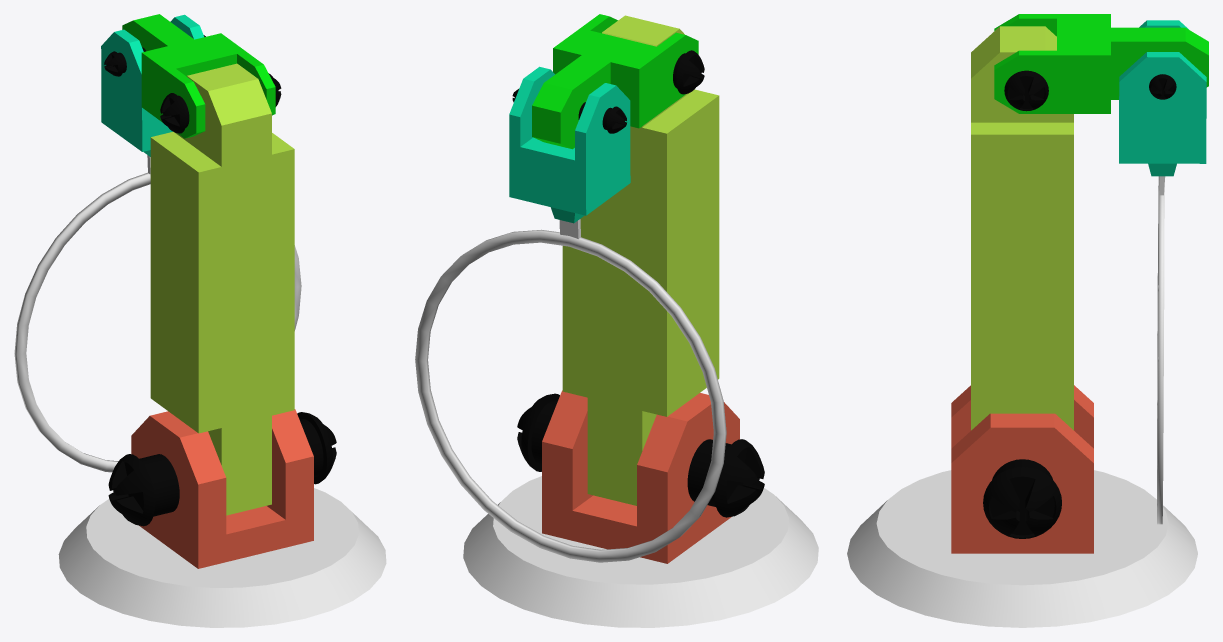
The model's file is ARMMECHBASKET2.fbx.
3 views of the same model, side by side, from view 1: azimuth 30°, elevation 25°; view 2: azimuth 150°, elevation 25°; view 3: azimuth 270°, elevation 25° (orthographic). The views are drawn at different scales.
Visible parts, largest first — view 1: Cube, SupportPanier, Plane, Plane.001, Cylinder, Cube.001, Plane.002, Cylinder.005; view 2: Cube, SupportPanier, Plane, Cube.001, Plane.002, Plane.001, Cylinder, Cylinder.005, Cylinder.006; view 3: Cube, SupportPanier, Plane, Plane.001, Plane.002, Cylinder, Cube.001, Cylinder.005, Cylinder.006.
Part boxes in pixels (<box>): Cube: <box>150,63,294,515</box>; SupportPanier: <box>58,488,386,627</box>; Plane: <box>131,409,313,568</box>; Plane.001: <box>122,14,275,138</box>; Cylinder: <box>108,412,336,526</box>; Cube.001: <box>14,155,301,472</box>; Plane.002: <box>101,14,204,156</box>; Cylinder.005: <box>160,73,281,133</box>; Cube: <box>562,15,719,505</box>; SupportPanier: <box>463,476,818,627</box>; Plane: <box>542,390,739,563</box>; Cube.001: <box>415,219,726,562</box>; Plane.002: <box>509,66,630,223</box>; Plane.001: <box>532,14,698,149</box>; Cylinder: <box>517,393,764,517</box>; Cylinder.005: <box>673,50,704,94</box>; Cylinder.006: <box>512,89,626,133</box>; Cube: <box>971,26,1073,430</box>; SupportPanier: <box>847,470,1197,627</box>; Plane: <box>951,385,1093,553</box>; Plane.001: <box>994,14,1208,113</box>; Plane.002: <box>1119,20,1206,176</box>; Cylinder: <box>983,459,1061,538</box>; Cube.001: <box>1157,176,1165,524</box>; Cylinder.005: <box>1004,70,1048,111</box>; Cylinder.006: <box>1149,74,1176,99</box>.
Size of the model in its own units: 54.23 by 88.47 by 55.89.
